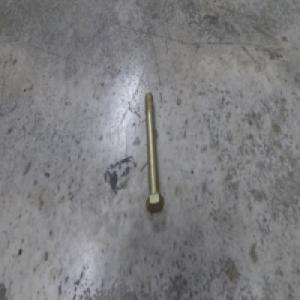Bolt: (143, 90, 164, 212)
